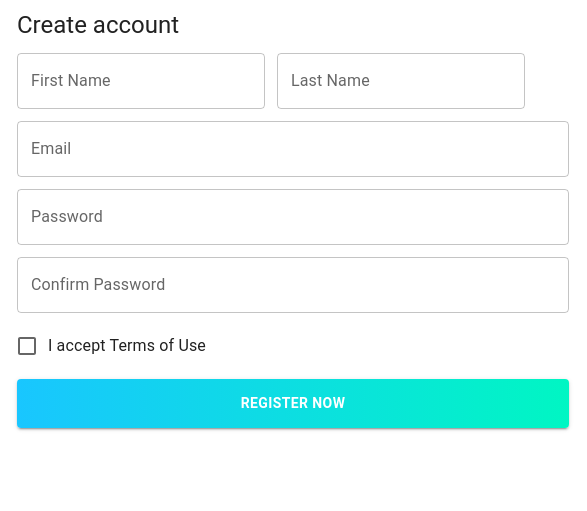
Test: Client-side validation › Register shows password mismatch error
Step 1. Type "password1" into the password field with placeholder "Password" → {"x": 293, "y": 217}, box [17, 189, 569, 245]
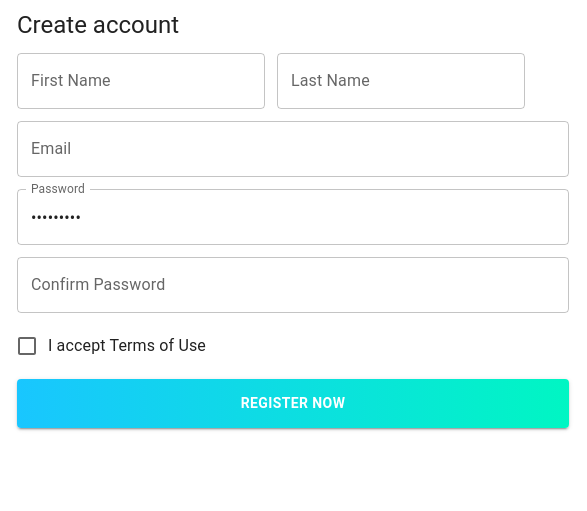
Step 2. Type "password2" into the password field with placeholder "Confirm Password" → {"x": 293, "y": 285}, box [17, 257, 569, 313]
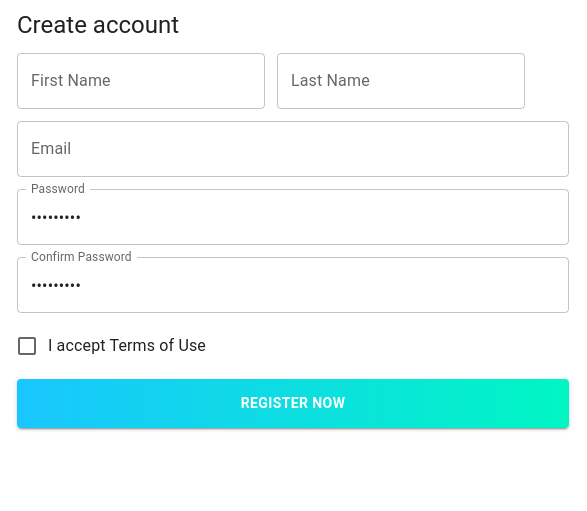
Step 3. Click the button "REGISTER NOW" → {"x": 293, "y": 403}, box [17, 379, 569, 428]
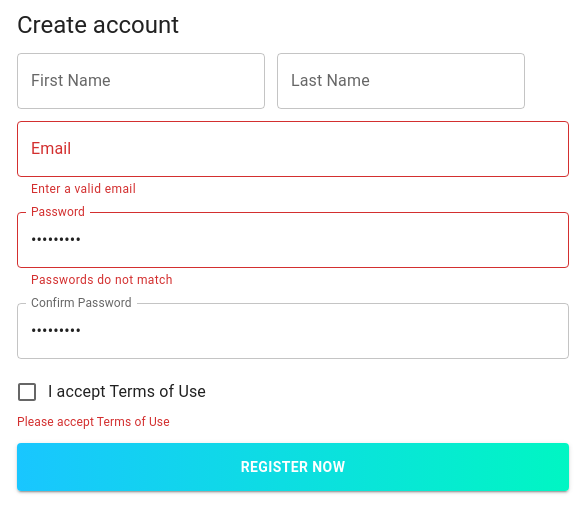
Expected: the text "Passwords do not match" is shown, [31, 273, 173, 287]
